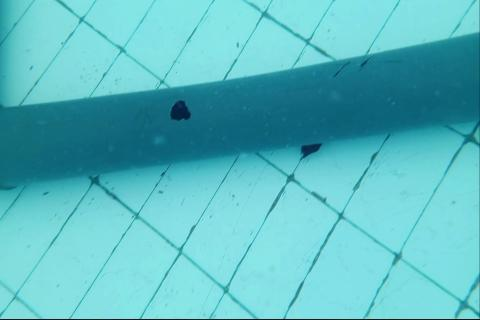kebocoran: (168, 98, 191, 121)
keretakan: (329, 54, 402, 76)
